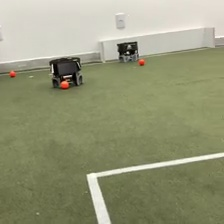ball: (59, 79, 70, 89), (8, 68, 17, 77), (137, 57, 145, 65)
goal: (96, 25, 217, 65)
robot: (47, 55, 85, 89), (115, 40, 140, 64)
